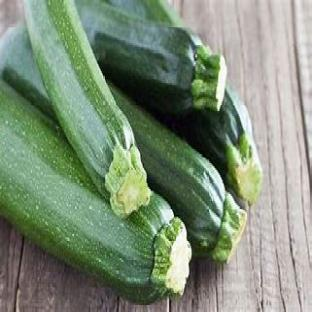Zucchini: (0, 82, 191, 303), (111, 85, 245, 261), (180, 84, 262, 204)
